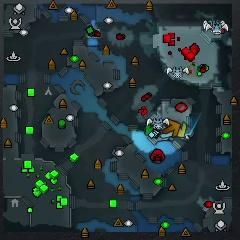x2: (178, 122, 188, 140)
x3: (159, 127, 175, 143)
x4: (142, 120, 156, 139)
x5: (163, 119, 181, 138)
